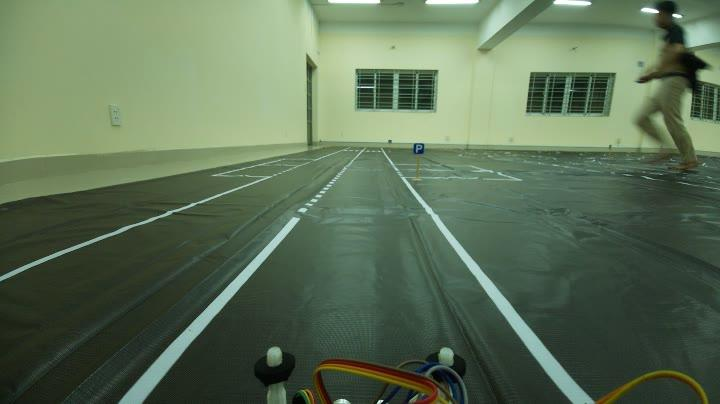parking: (410, 139, 425, 157)
